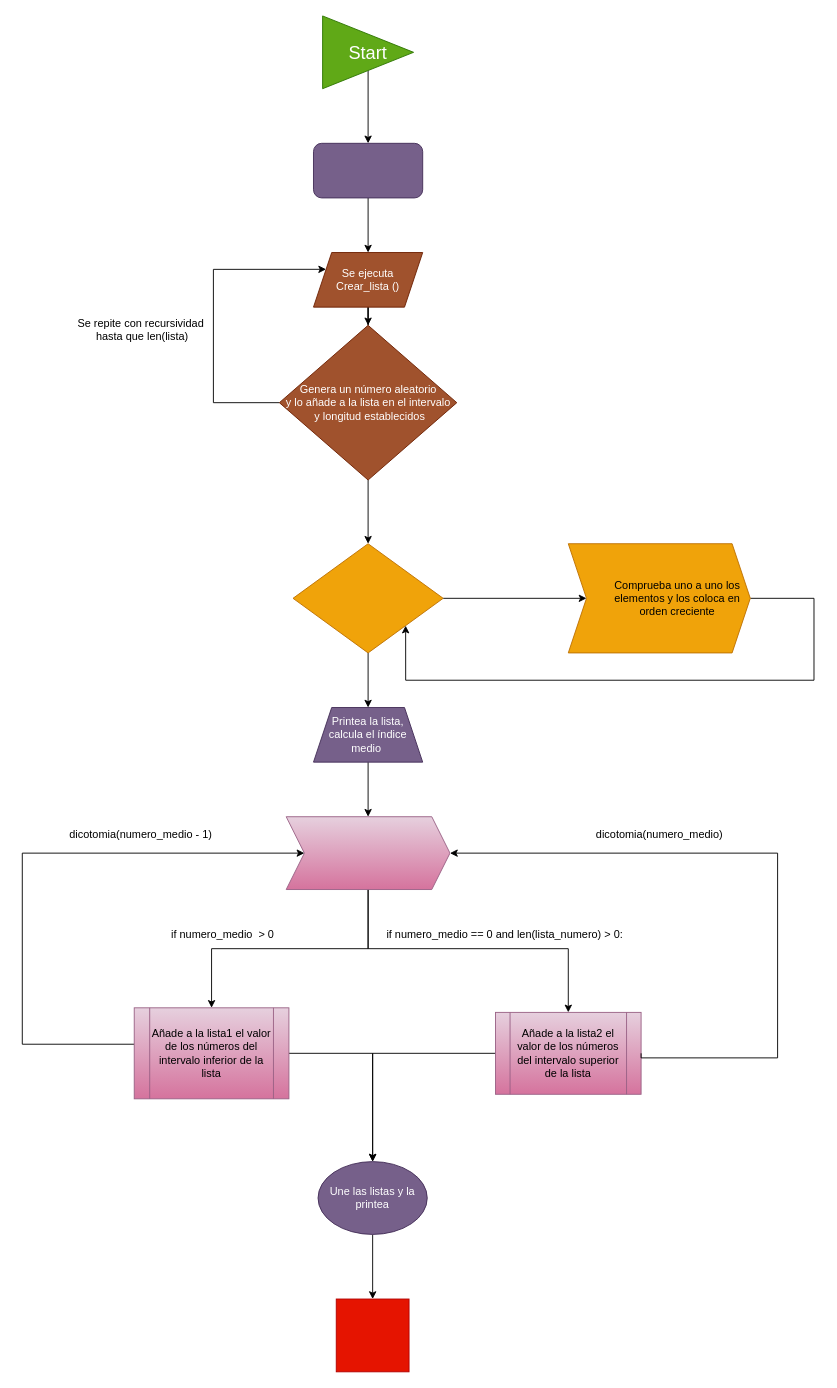
Image size: 837x1388. Some labels were removed from this diagram. Here are the shapes that lost their labels. From the top down, the centre of each, then its label:
At (x=368, y=170): "Imports y creadas listas vacías".
At (x=367, y=598): "Se ejecuta Ordenarlista_dicotomia".
At (x=367, y=853): "Se ejecuta dicotomia(numero_medio)".
At (x=372, y=1335): "STOP".
